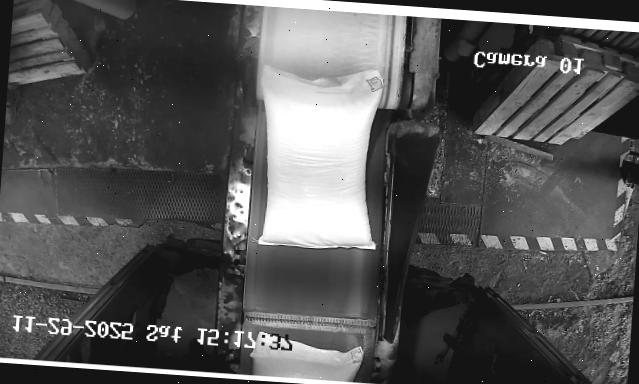bag: (251, 63, 388, 252), (249, 330, 364, 382)
